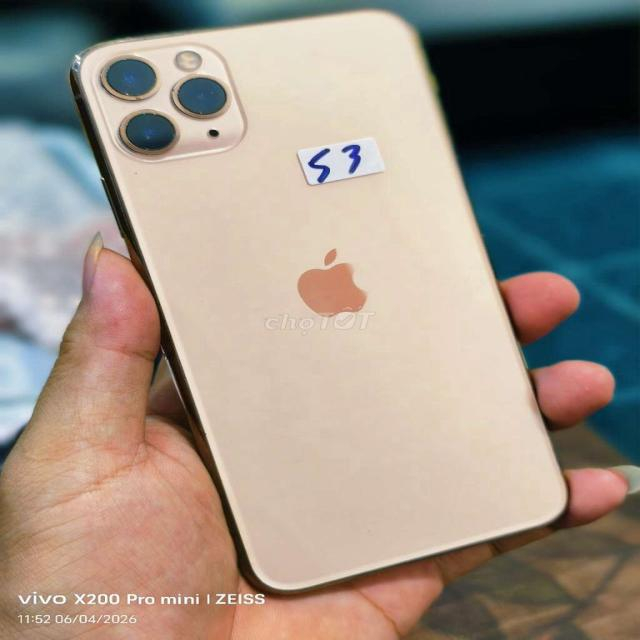gen_11: (67, 10, 569, 596)
